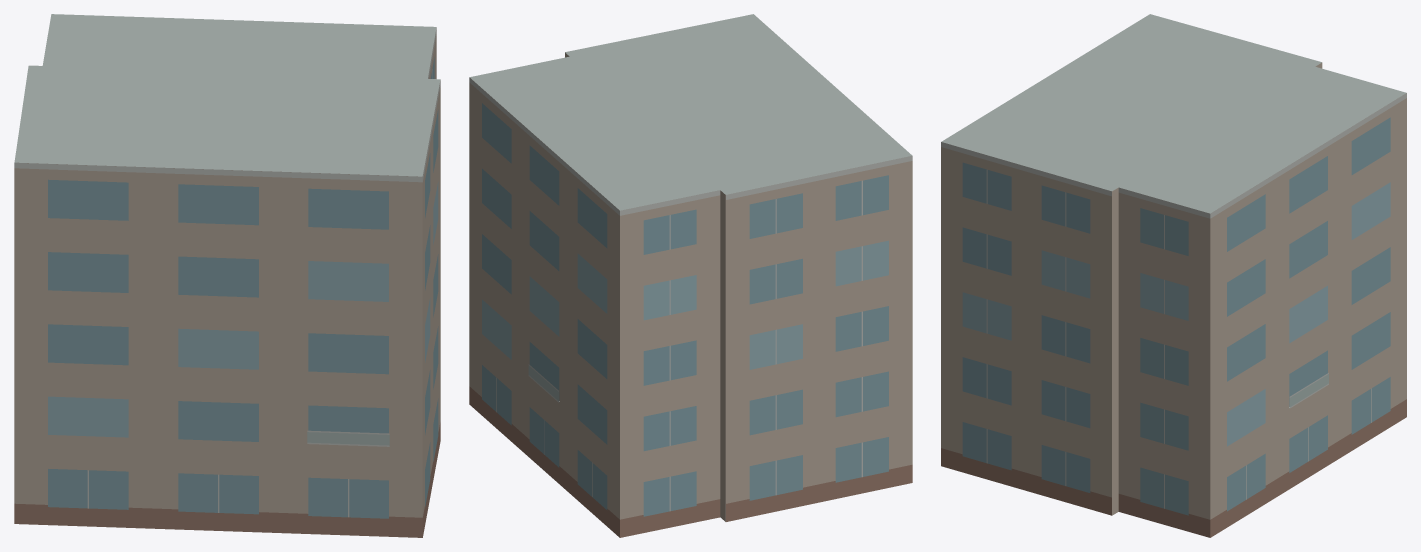
File: survey-upis-32740193.glb
The picture shows the model from 3 angles, left to right: view 1: azimuth 30°, elevation 25°; view 2: azimuth 150°, elevation 25°; view 3: azimuth 270°, elevation 25°; orthographic projection. The views are drawn at different scales.
Parts seen in each view (by area): view 1: survey-upis-32740193.tmp; view 2: survey-upis-32740193.tmp; view 3: survey-upis-32740193.tmp.
Boxes of the visible parts, <box> form: survey-upis-32740193.tmp: <box>14,14,440,537</box>; survey-upis-32740193.tmp: <box>469,14,912,537</box>; survey-upis-32740193.tmp: <box>941,14,1406,537</box>.
Size of the model in its own units: 20.47 by 15.5 by 20.18.
